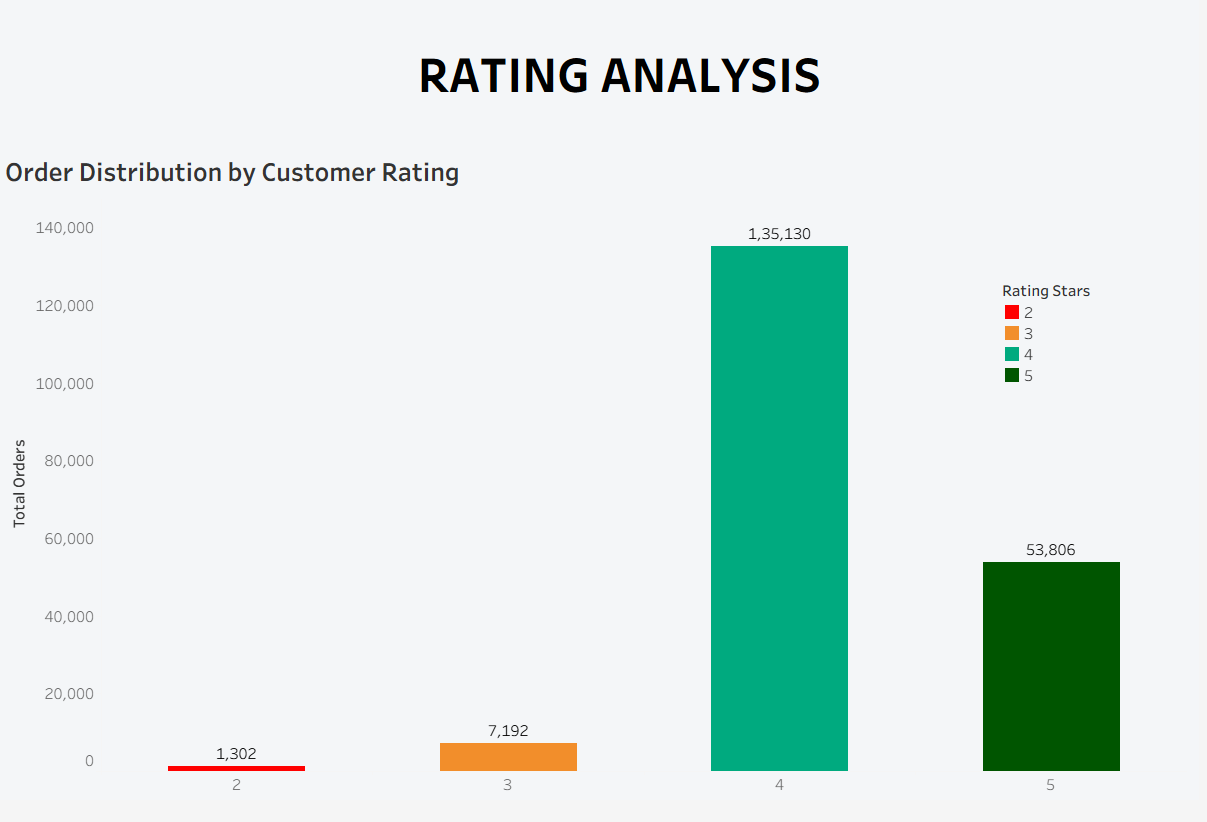

Layout of this report page (visuals, bound fields, positions):
{"tool":"tableau","page":{"name":"RATING ANALYSIS","canvas":[1200,800],"ordinal":3},"visuals":[{"type":"text","box":[339,11,563,124]},{"type":"worksheet","title":"Order Distribution by Customer Rating","mark":"Bar","rows":["Calculation_0994535951753216"],"cols":["Calculation_0994535965282309"],"box":[2,150,1186,646]},{"type":"legend","title":"Order Distribution by Customer Rating","param":"[federated.0wbnxqv03bbuuo1epee1f0hm8t7l].[none:Calculation_0994535965282309:ok]","box":[1003,280,201,129]}]}

Visuals, with their boxes in screenshot pixels (x1, y1, x2, y2), scaled from the page's 1200x800 canvas onto the 1207x822 screenshot:
text: (left=341, top=11, right=907, bottom=139)
"Order Distribution by Customer Rating" worksheet (Bar marks): (left=2, top=154, right=1195, bottom=818)
"Order Distribution by Customer Rating" legend: (left=1009, top=288, right=1206, bottom=420)
